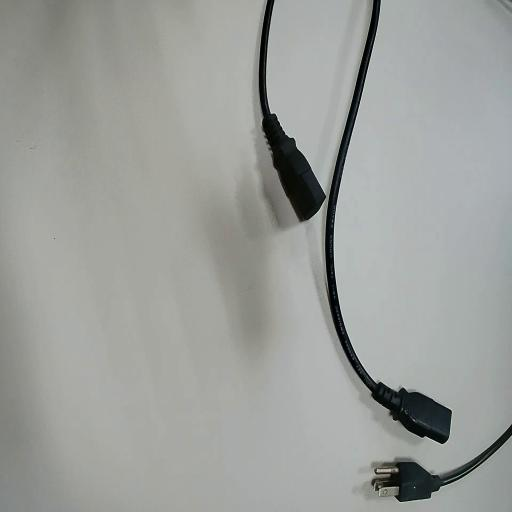wire: (326, 0, 450, 442), (259, 0, 324, 220), (380, 426, 511, 500)
